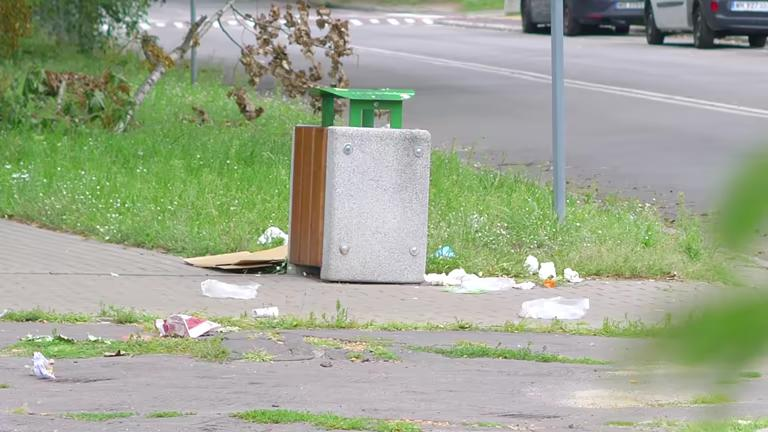trash: (180, 245, 293, 286), (423, 265, 515, 296), (528, 291, 583, 323), (163, 315, 219, 345), (198, 277, 264, 301), (23, 348, 67, 384), (246, 303, 289, 325), (260, 215, 287, 246), (97, 346, 136, 363), (434, 239, 459, 264), (516, 252, 550, 270), (538, 262, 562, 287), (558, 262, 582, 284)
trash_can_overflow: (226, 42, 553, 347)
